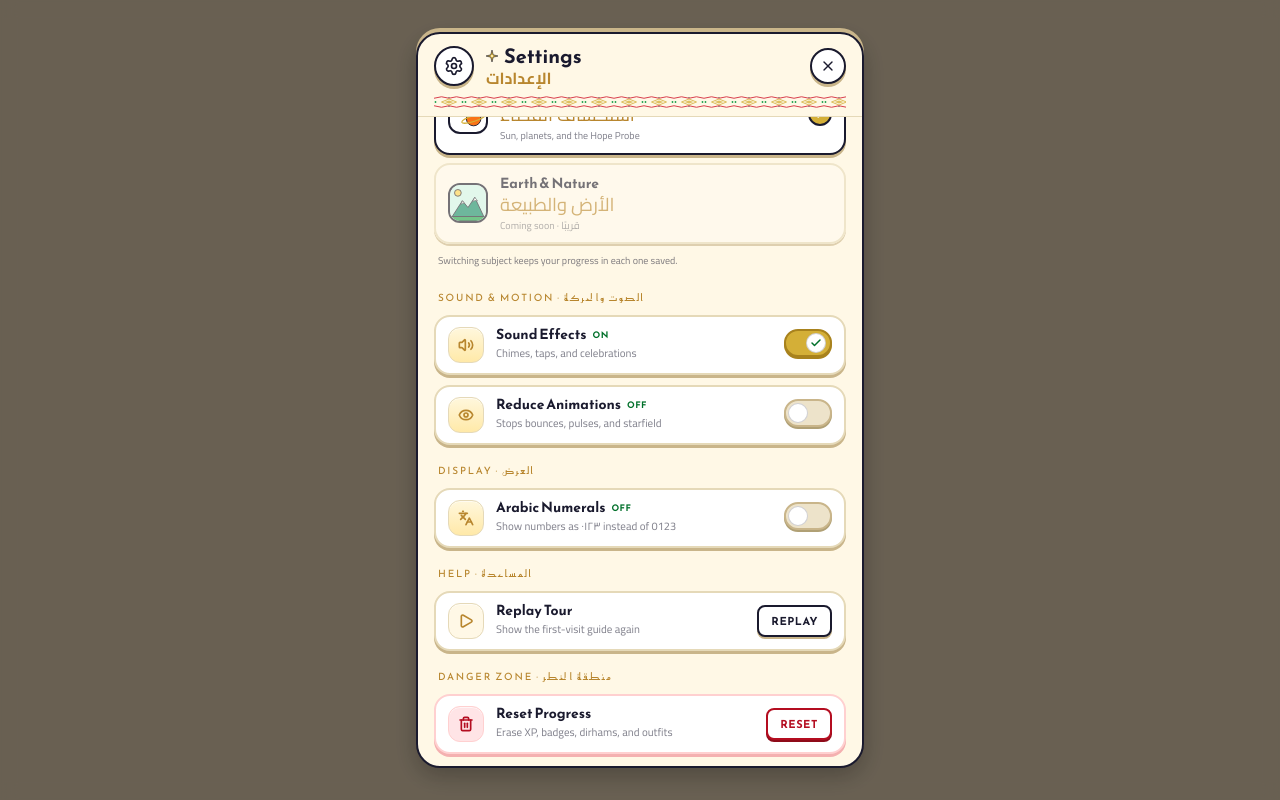
Test: SettingsModal › requires confirmation before reset
The image size is (1280, 800).
(page scrolled)
Click the button "Reset" at (799, 724), box [766,708,832,740]
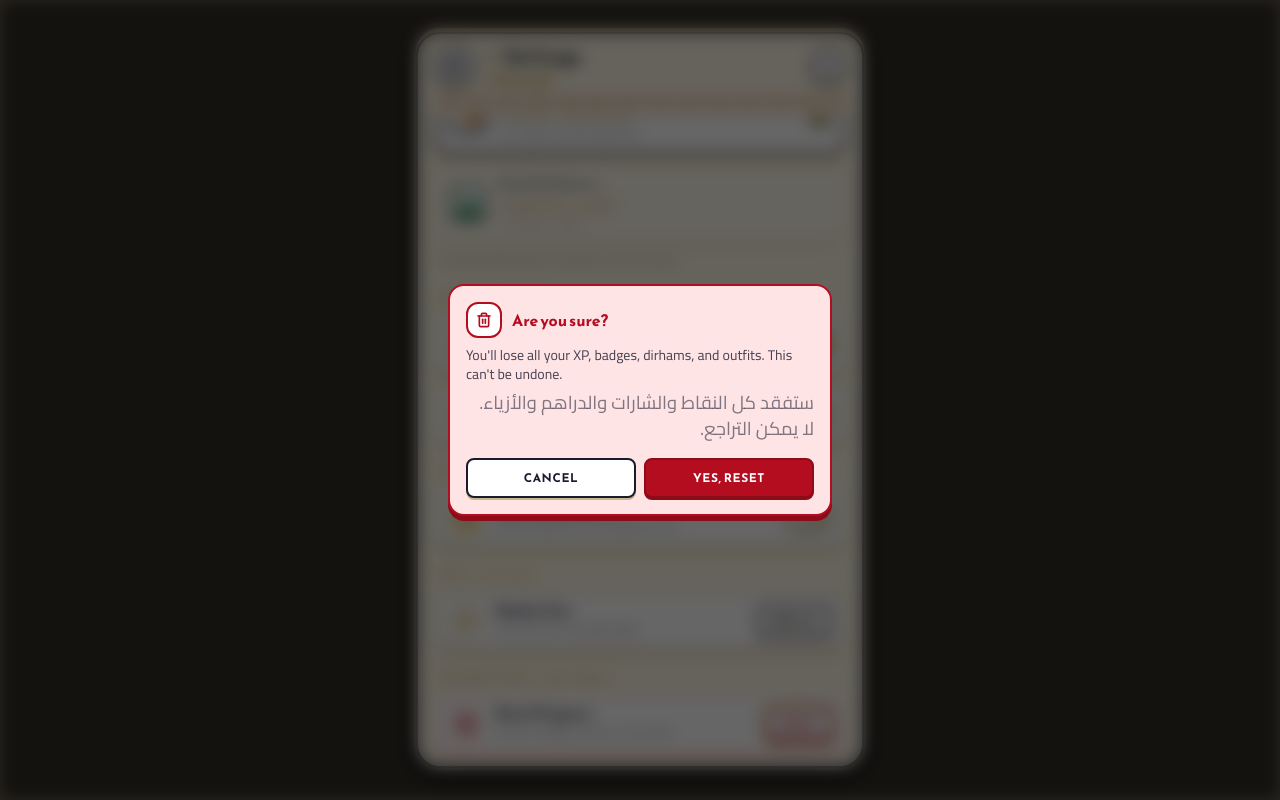
Expected: the text "Are you sure?" is shown, [512,310,608,330]
